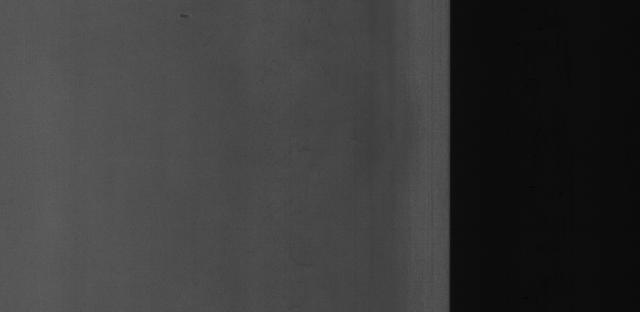inclusion: (174, 8, 197, 22)
